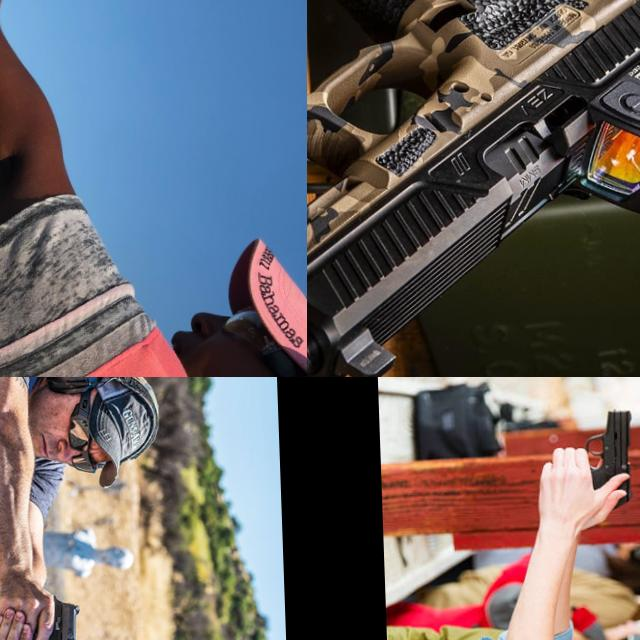handgun: (307, 0, 640, 377), (581, 408, 638, 512), (0, 0, 54, 63), (26, 593, 85, 640)
